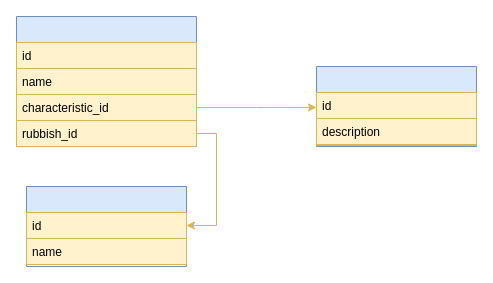
Some shapes in this 493 by 283 pixel diagram are drawn without their labels. Each missing label, with the box of its shape:
Characteristics: (316, 66, 476, 146)
Rubbish: (26, 186, 186, 266)
Wombles: (16, 16, 196, 146)
